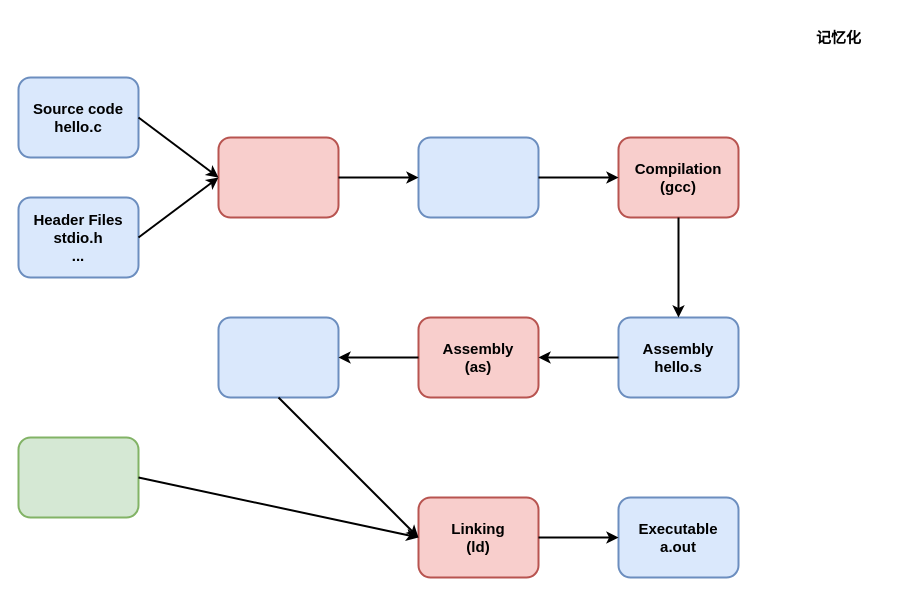
The diagram is 915 pixels wide and 595 high, and some of its shapes have lost their labels. The shapes that lost their labels are listed below. From the top down, each one's centre as x and y in pixels, then its label:
At point 278,177: "Propressing (cpp)".
At point 478,177: "Propressed hello.i".
At point 278,357: "Object File hello.o".
At point 78,477: "Static Library libc.a ...".
